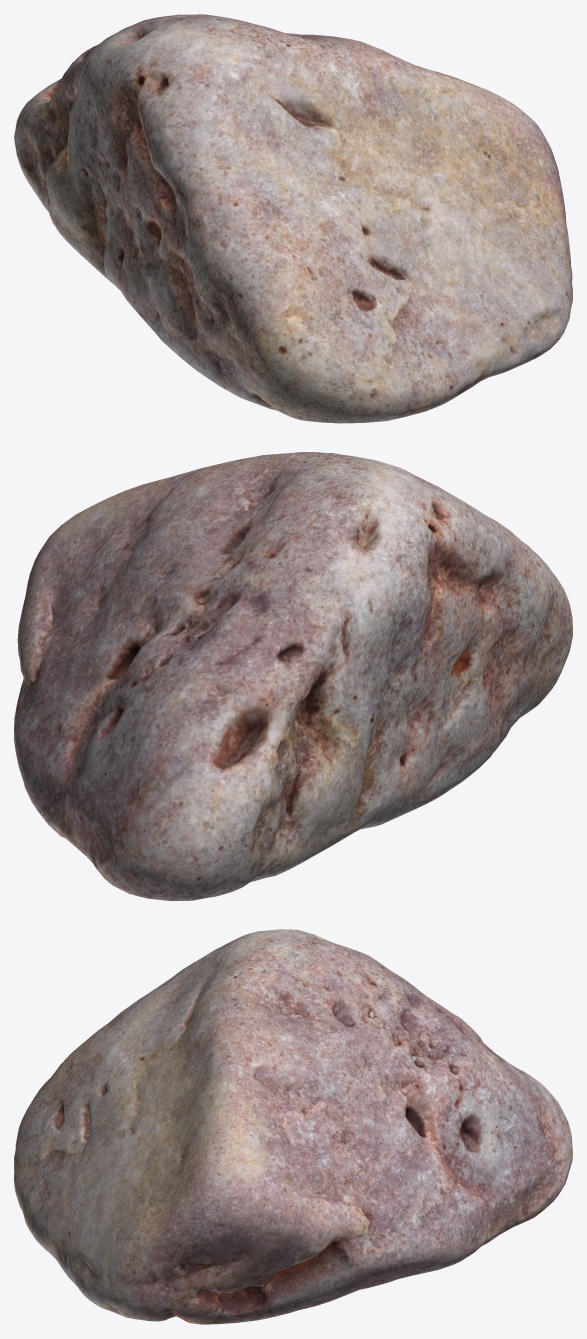
3 renders of one model, top to bottom at view 1: azimuth 30°, elevation 25°; view 2: azimuth 150°, elevation 25°; view 3: azimuth 270°, elevation 25°, orthographic. The views are drawn at different scales.
Visible parts, largest first — view 1: rock-007; view 2: rock-007; view 3: rock-007.
Part boxes in pixels (x1,y1,x2,y2): rock-007: (14, 14, 572, 423); rock-007: (14, 452, 572, 900); rock-007: (14, 929, 572, 1324).
Size of the model in its own units: 1.42 by 1.11 by 2.
Materials: 1 (1 with a texture image).
